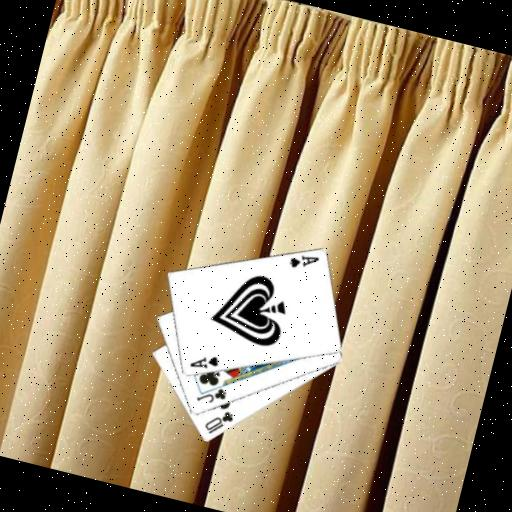10C: (199, 404, 236, 441)
AS: (186, 348, 222, 376), (285, 248, 321, 276)
JC: (193, 381, 230, 410)
